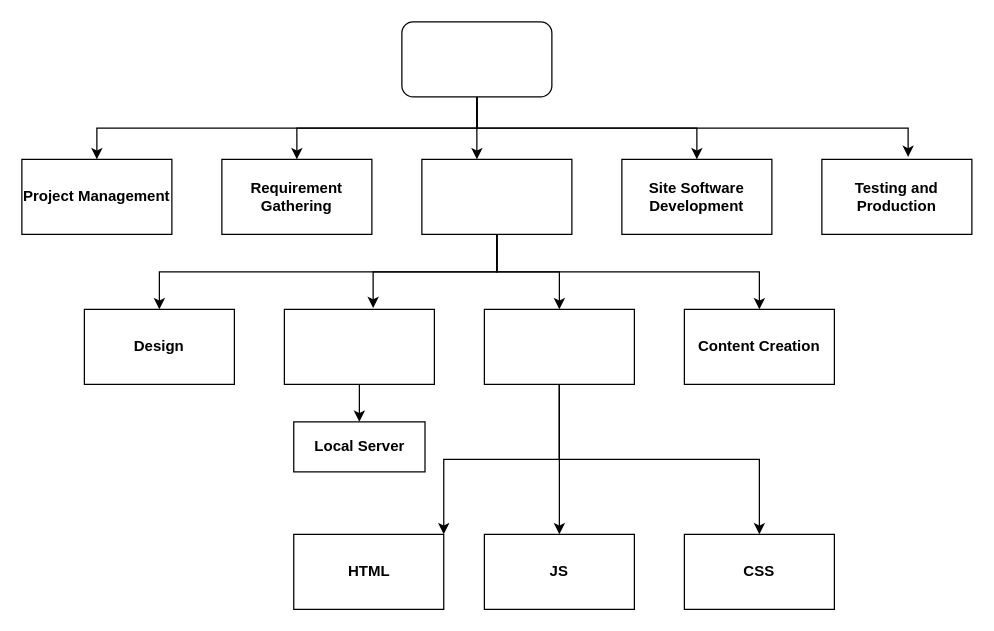
This 994x631 diagram has some shape labels left out. The shapes that lost their labels are listed below. From the top down, each one's centre as x and y in pixels, then its label:
[476,59]: FootyField Website
[496,196]: Design And Analysis
[358,346]: Backend
[558,346]: FrontEnd
